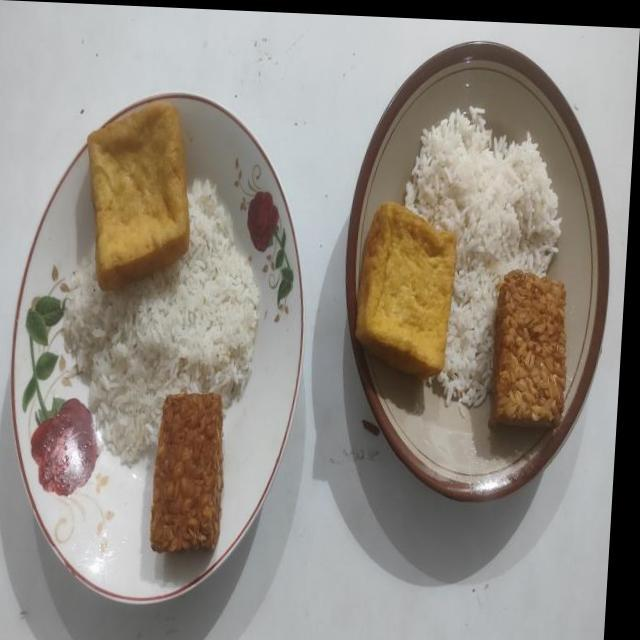nasi_putih: (63, 179, 260, 466), (405, 107, 562, 413)
tahu_goreng: (86, 103, 190, 290), (356, 202, 456, 380)
tempe_goreng: (488, 270, 566, 428), (150, 393, 223, 552)
